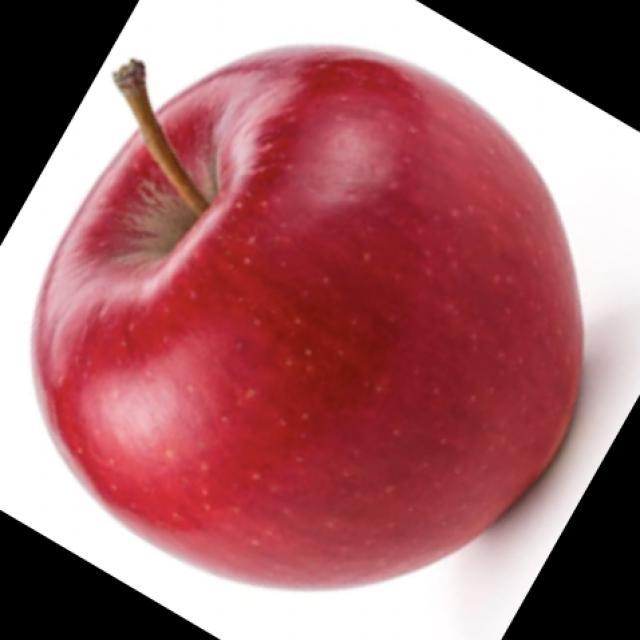Fresh Apple: (50, 75, 577, 590)
